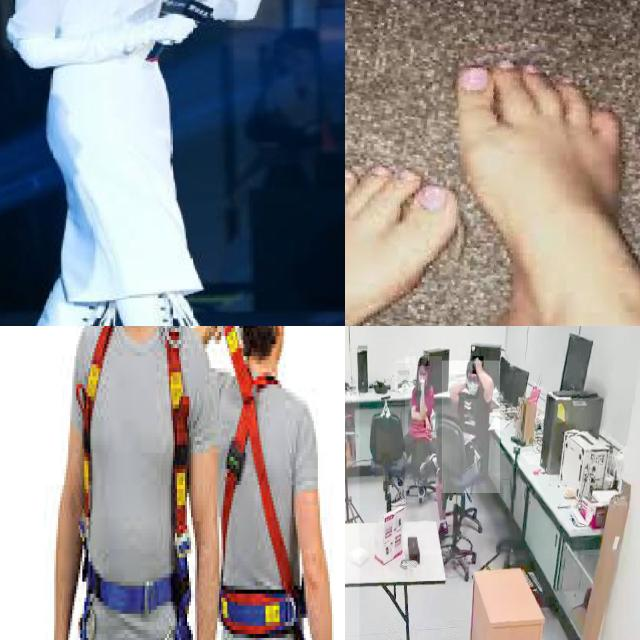Barefoots: (438, 37, 640, 326), (345, 149, 471, 326)
Harness: (78, 326, 194, 640), (216, 370, 308, 640)
face_mask: (466, 370, 478, 399)
face_nomask: (418, 370, 428, 384)
hand_glove: (152, 14, 197, 46)
hand_noglove: (472, 356, 484, 375), (419, 376, 425, 392), (424, 416, 430, 429)
head_nohelmet: (464, 358, 482, 370), (416, 355, 431, 367)
person: (0, 0, 286, 326), (442, 360, 500, 494), (405, 356, 443, 487)
shoes: (0, 285, 97, 326), (108, 298, 249, 326)
